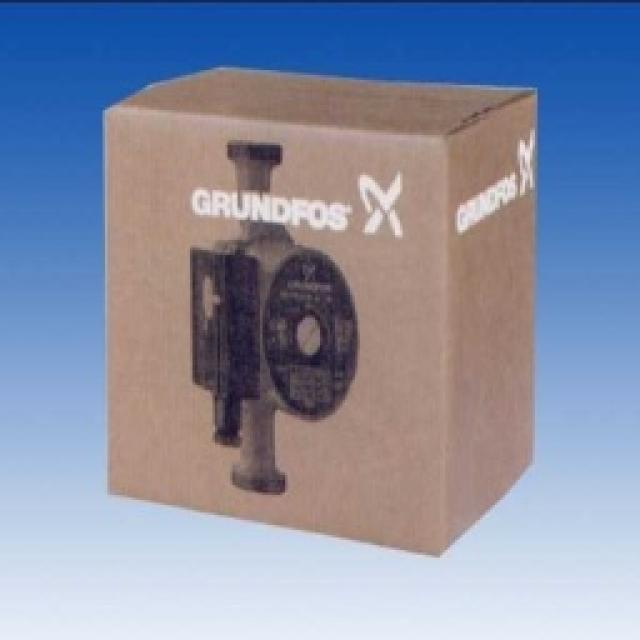box: (87, 52, 541, 571)
